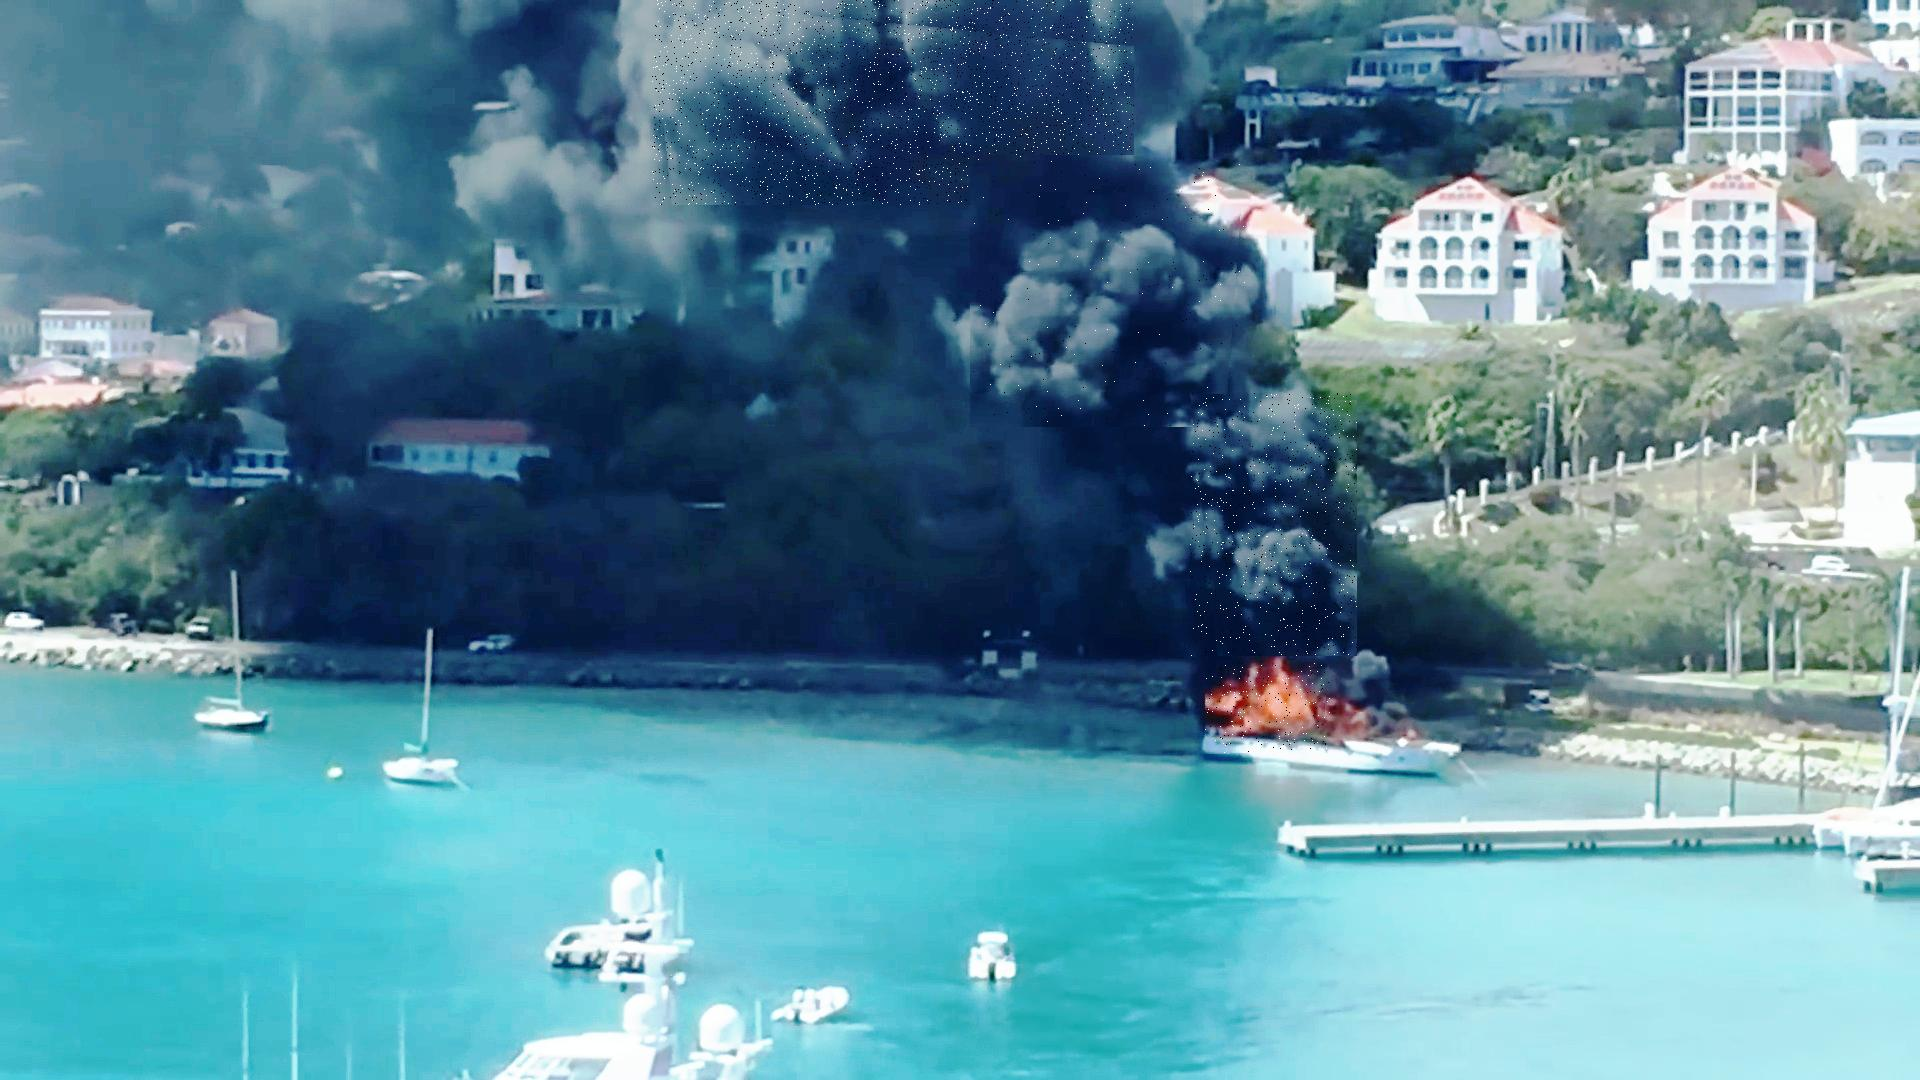fire: (1205, 663, 1331, 754)
smoke: (651, 0, 1134, 204), (971, 156, 1245, 427), (1191, 393, 1357, 657)
